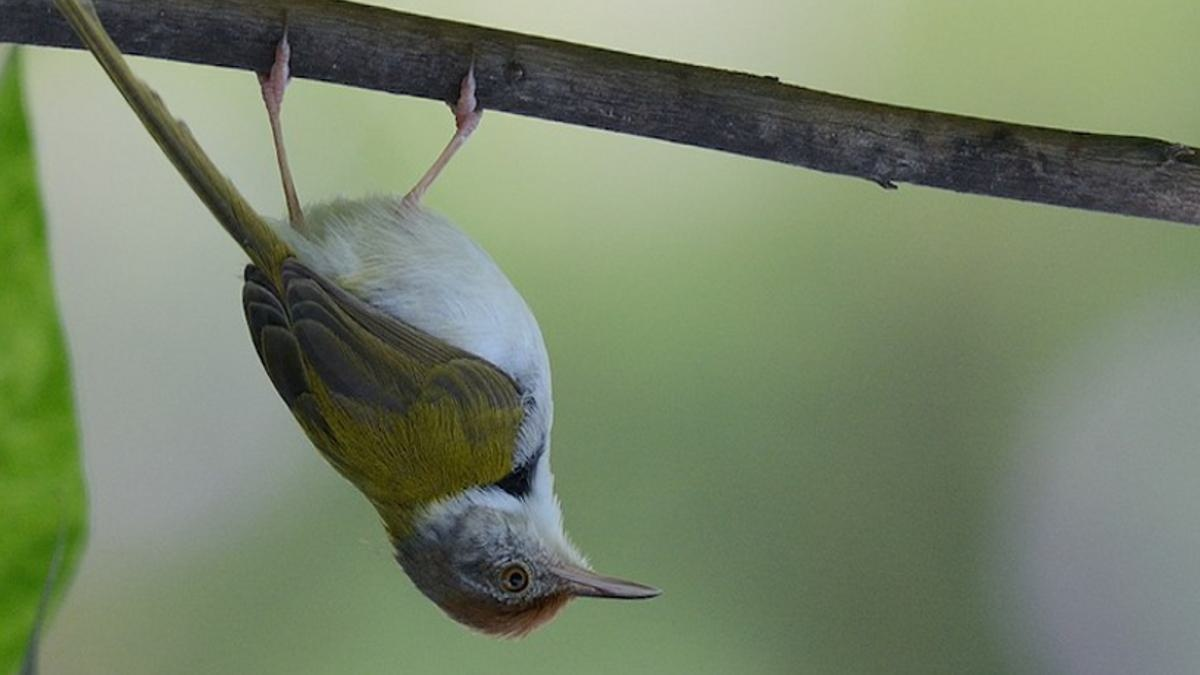tailorbird: (43, 1, 670, 651)
